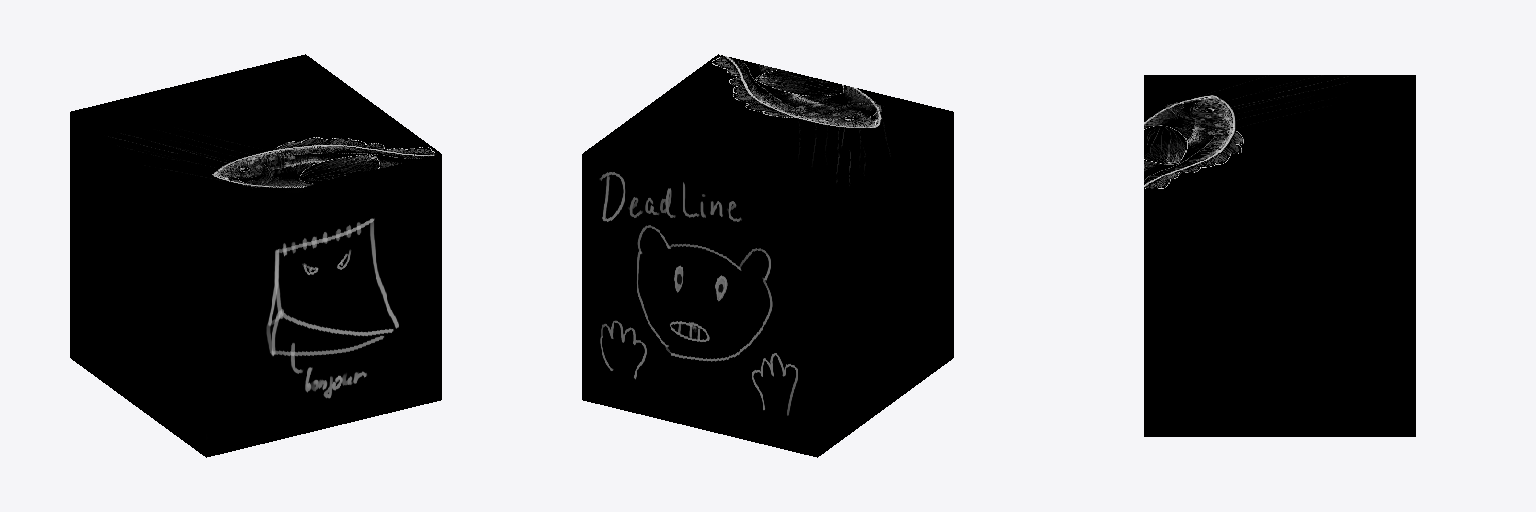
3 renders of one model, left to right at view 1: azimuth 30°, elevation 25°; view 2: azimuth 150°, elevation 25°; view 3: azimuth 270°, elevation 25°, orthographic.
Parts seen in each view (by area): view 1: Cube; view 2: Cube; view 3: Cube.
Boxes of the visible parts, <box> form: Cube: <box>70,54,441,457</box>; Cube: <box>582,54,953,457</box>; Cube: <box>1144,75,1415,436</box>.
Bounding box in the file's own units: 2 × 2 × 2.
1 materials, 1 textured.